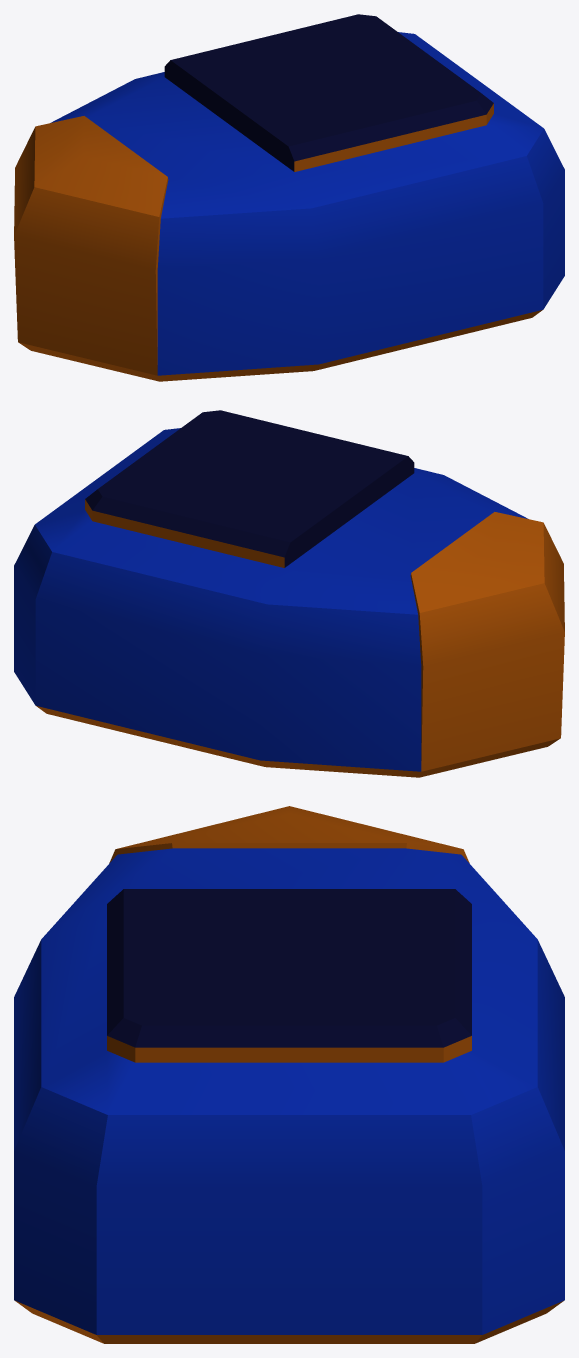
The model's file is backpack02.fbx.
3 views of the same model, one above another, from view 1: azimuth 30°, elevation 25°; view 2: azimuth 150°, elevation 25°; view 3: azimuth 270°, elevation 25° (orthographic). The views are drawn at different scales.
Parts seen in each view (by area): view 1: backpack_02; view 2: backpack_02; view 3: backpack_02.
Boxes of the visible parts, x1=… form: backpack_02: x1=14, y1=14, x2=564, y2=381; backpack_02: x1=14, y1=410, x2=564, y2=777; backpack_02: x1=14, y1=806, x2=564, y2=1343.
Bounding box in the file's own units: 71.02 × 28 × 50.
